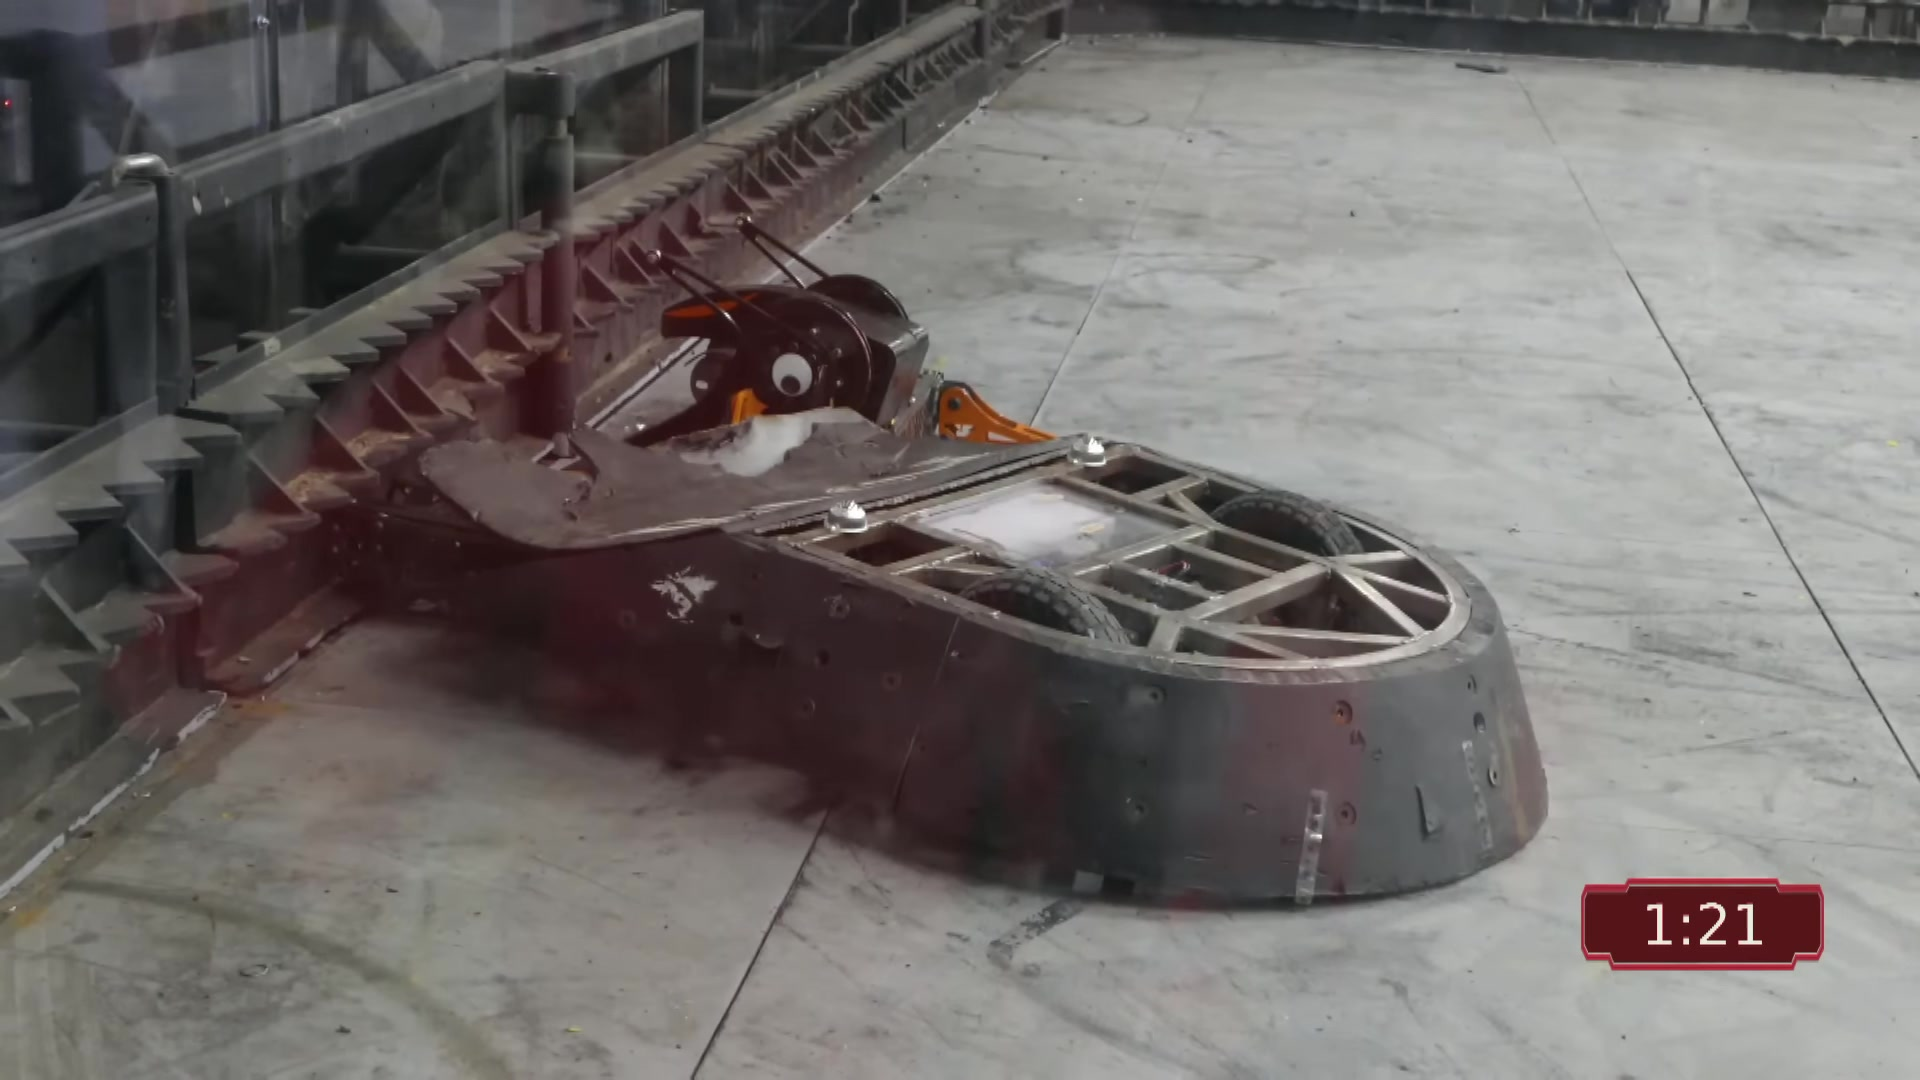combatbot: (421, 443, 1549, 919), (319, 214, 940, 596)
